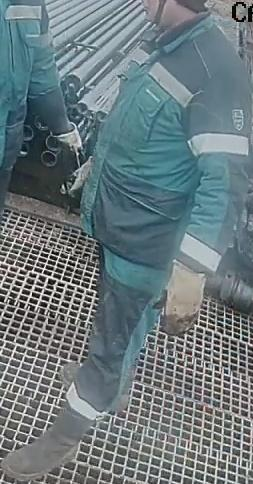gloves: (153, 257, 212, 338), (46, 119, 85, 176)
vest: (79, 12, 252, 276), (0, 0, 49, 167)
